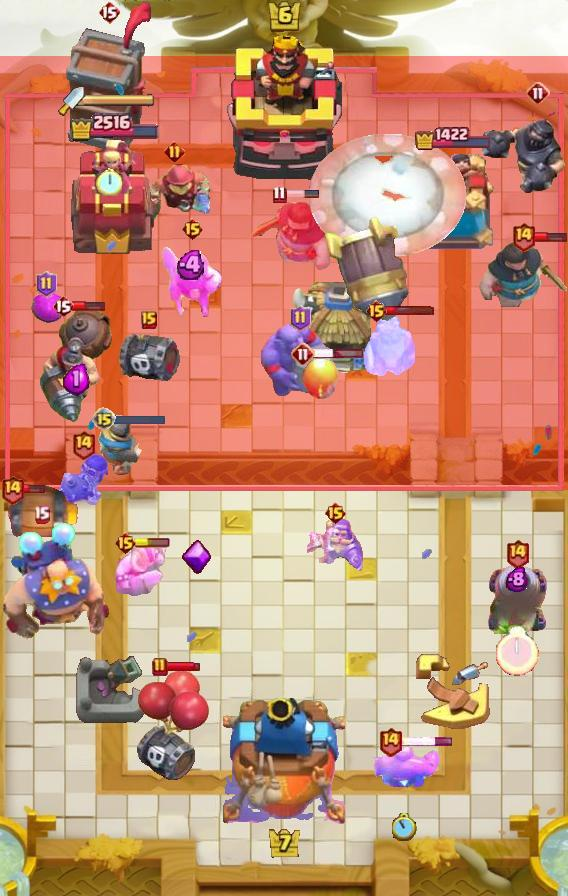archer-queen: (261, 319, 339, 399)
bandit: (160, 243, 224, 321)
bar: (70, 138, 158, 256)
dart-goblin: (64, 0, 154, 156)
electro-spirit: (176, 250, 208, 280), (63, 362, 90, 394), (506, 566, 528, 592)
elixir: (497, 626, 540, 676), (96, 168, 122, 196), (392, 813, 417, 841)
emote: (114, 413, 166, 427), (401, 736, 454, 748), (312, 348, 364, 359), (385, 304, 435, 315), (165, 661, 201, 673), (11, 483, 46, 495), (533, 231, 567, 243), (72, 300, 105, 312), (284, 189, 320, 199), (134, 538, 170, 548)
fireball: (136, 164, 212, 228)
firecracker: (96, 416, 144, 476)
firecracker-evolution: (307, 518, 363, 574)
goblin-ball: (56, 452, 110, 508)
goblin-cage: (485, 564, 549, 634)
goblin-giant: (113, 539, 167, 597)
hog: (301, 357, 341, 401)
king-tower: (226, 33, 342, 181), (223, 698, 345, 826)
king-tower-bar: (84, 93, 156, 107)
little-prince: (0, 520, 112, 640)
miner: (30, 293, 62, 323)
mortar-evolution: (362, 315, 418, 381)
prince: (288, 282, 390, 378)
queen-tower: (405, 154, 501, 256)
royal-guardian: (480, 108, 568, 196)
royal-hog: (251, 199, 335, 275), (474, 241, 568, 307)
royal-recruit-evolution: (133, 670, 211, 784), (118, 328, 180, 384)
selected: (68, 111, 160, 141), (414, 126, 494, 151)
skeleton-king-skill: (181, 540, 211, 576)
text: (511, 221, 536, 252), (71, 429, 96, 460), (506, 539, 531, 570), (378, 727, 403, 757), (0, 475, 24, 505), (526, 81, 550, 105), (291, 342, 315, 366), (92, 407, 116, 431), (114, 531, 138, 555), (289, 305, 311, 331), (180, 217, 203, 241), (365, 299, 388, 323), (324, 501, 347, 525), (36, 271, 57, 297), (98, 0, 120, 24), (52, 294, 74, 318), (163, 141, 185, 163), (34, 505, 51, 524), (152, 657, 168, 677), (141, 311, 157, 329), (273, 185, 288, 203)
the-log: (0, 485, 80, 545)
tornado: (367, 743, 441, 795)
wall-breaker: (309, 134, 467, 256)
wizard: (38, 307, 114, 425)
x-bow: (325, 214, 409, 322)
